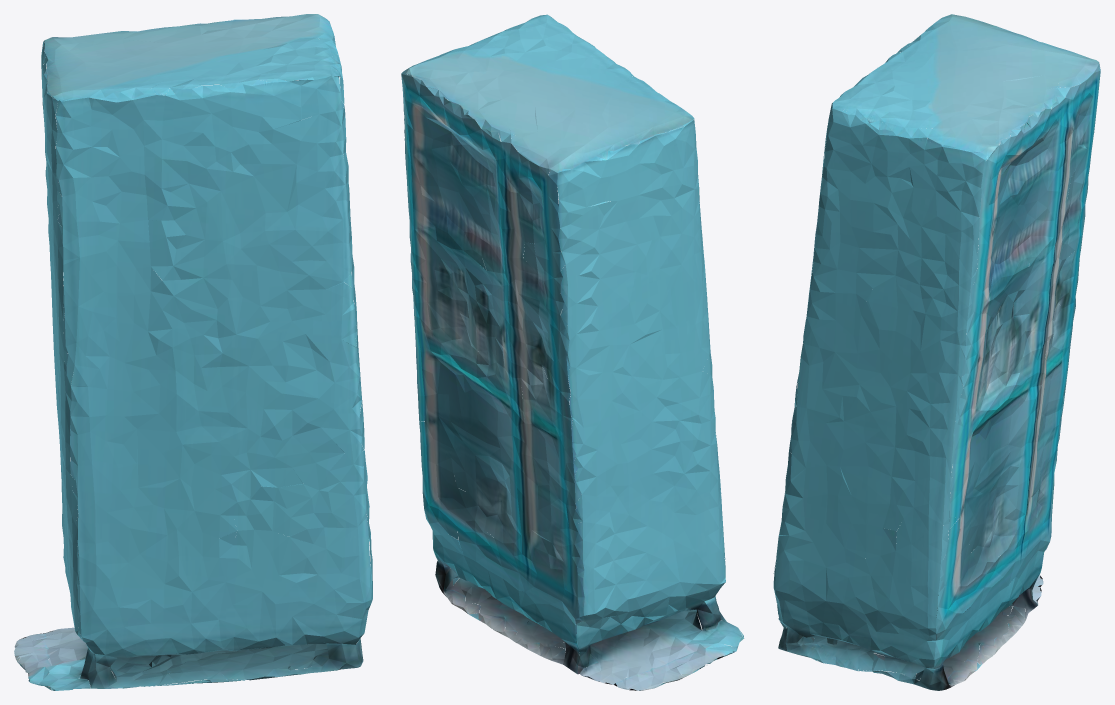
The model's file is cabinet.glb.
3 renders of one model, left to right at view 1: azimuth 30°, elevation 25°; view 2: azimuth 150°, elevation 25°; view 3: azimuth 270°, elevation 25°, orthographic. The views are drawn at different scales.
Visible parts, largest first — view 1: world; view 2: world; view 3: world.
Part boxes in pixels (x1=…): world: x1=14, y1=14, x2=372, y2=690; world: x1=401, y1=14, x2=744, y2=690; world: x1=773, y1=14, x2=1100, y2=690.
Bounding box in the file's own units: 0.5306 × 0.9134 × 0.4753.
1 material, 1 textured.
